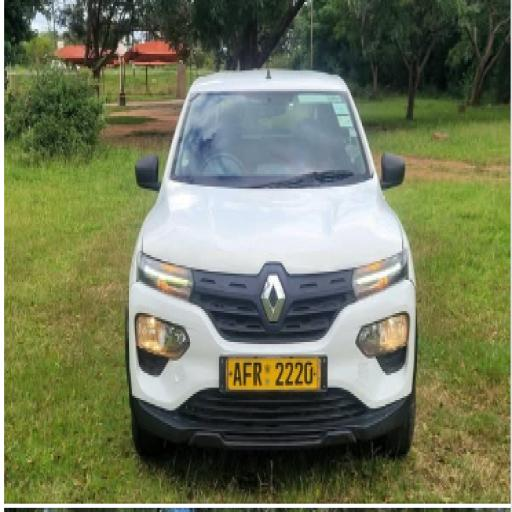number-plates: (226, 354, 319, 392)
